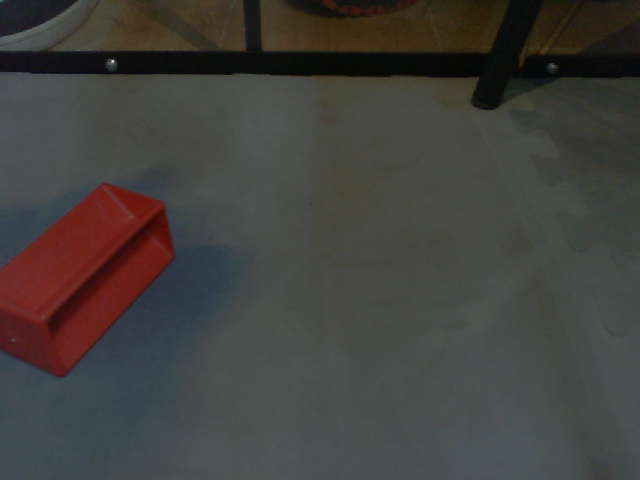RedSample: (1, 180, 174, 380)
